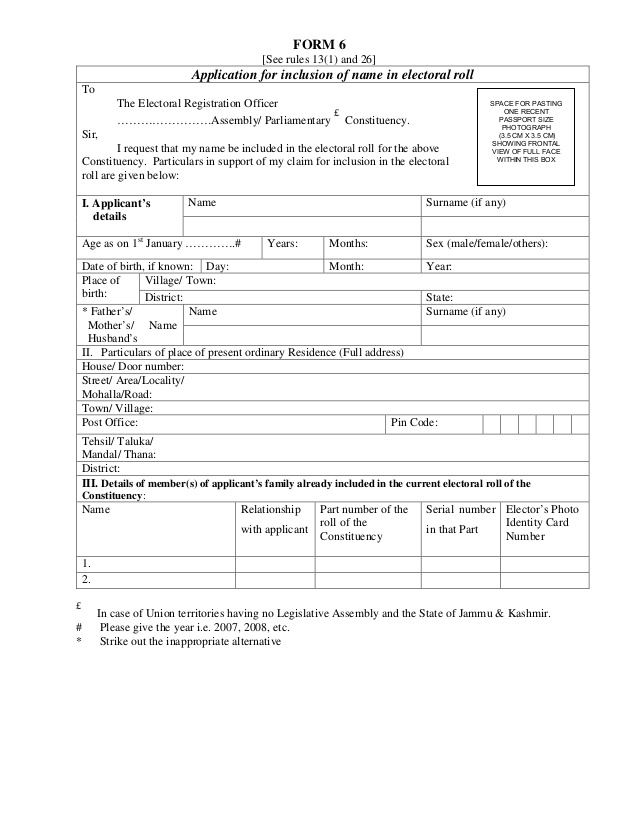textbox: (73, 431, 592, 467), (72, 370, 593, 404), (73, 394, 593, 420), (135, 270, 594, 295), (73, 458, 591, 478), (74, 358, 592, 377), (73, 412, 388, 436), (180, 212, 425, 241), (181, 321, 424, 350), (136, 287, 425, 308), (417, 232, 594, 264), (419, 321, 593, 351), (419, 212, 591, 240), (417, 253, 594, 277), (71, 570, 239, 592), (319, 231, 428, 264), (72, 554, 241, 575), (417, 287, 592, 307), (480, 409, 591, 436), (196, 255, 328, 277), (308, 569, 425, 592), (312, 553, 424, 577), (320, 255, 425, 278), (496, 568, 594, 592), (232, 552, 319, 578), (498, 553, 593, 576), (258, 232, 328, 263), (417, 553, 504, 577), (232, 569, 319, 592), (418, 569, 502, 592), (513, 410, 540, 440), (496, 410, 523, 438), (550, 410, 575, 439), (567, 410, 592, 438), (532, 410, 556, 438), (479, 412, 502, 437)
